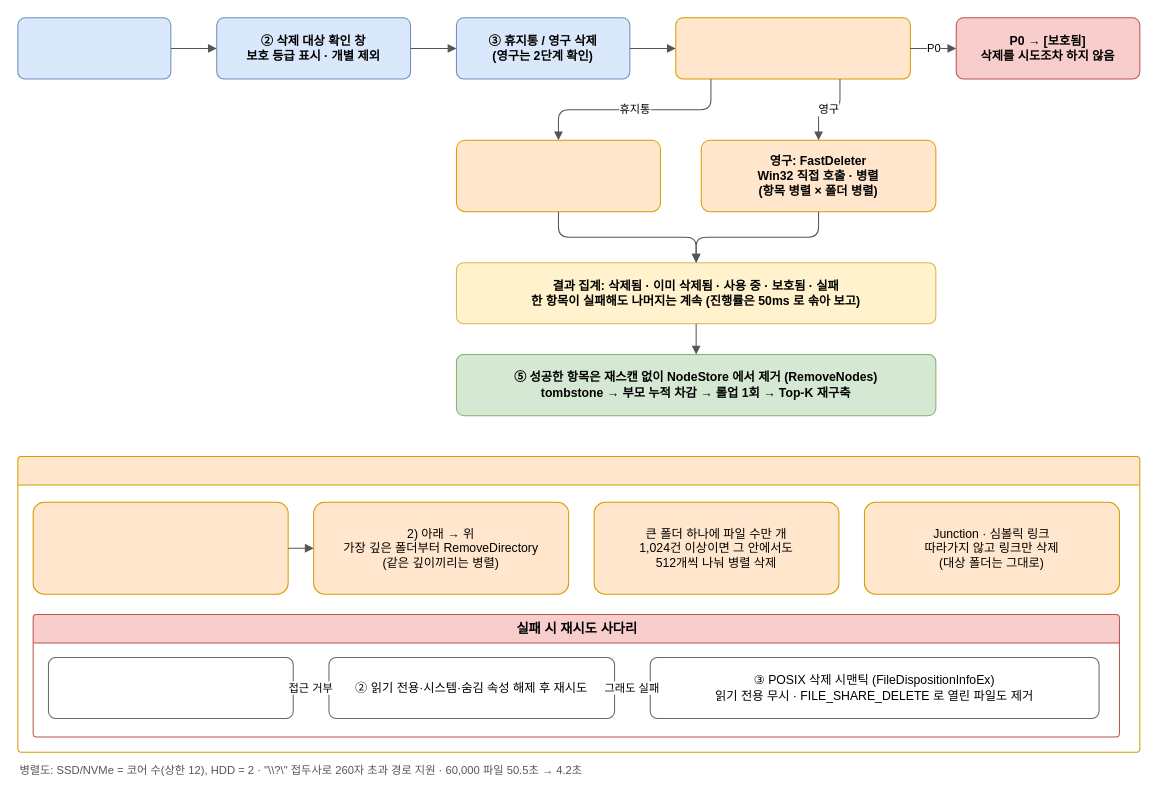
The diagram is 1158 pixels wide and 806 high, and some of its shapes have lost their labels. The box of each missing label's shape, as (x1, y1, x2, y2) in pixels:
1) 위 → 아래 (깊이별 병렬) 같은 깊이의 폴더를 FindFirstFileEx 로 열거 파일은 열거 결과로 바로 삭제: (32, 501, 288, 594)
FastDeleter 내부: (17, 455, 1140, 752)
① DeleteFile / RemoveDirectory: (47, 656, 293, 719)
① 선택 폴더 · 큰 파일 · 정리 추천: (17, 17, 171, 79)
④ 삭제 직전 재검증 (Verify) 존재 확인 · 보호 등급 다시 판정: (675, 17, 910, 79)
휴지통: ShellService SHFileOperation · 순차 (되돌릴 수 있어야 하므로 셸): (455, 139, 660, 212)
